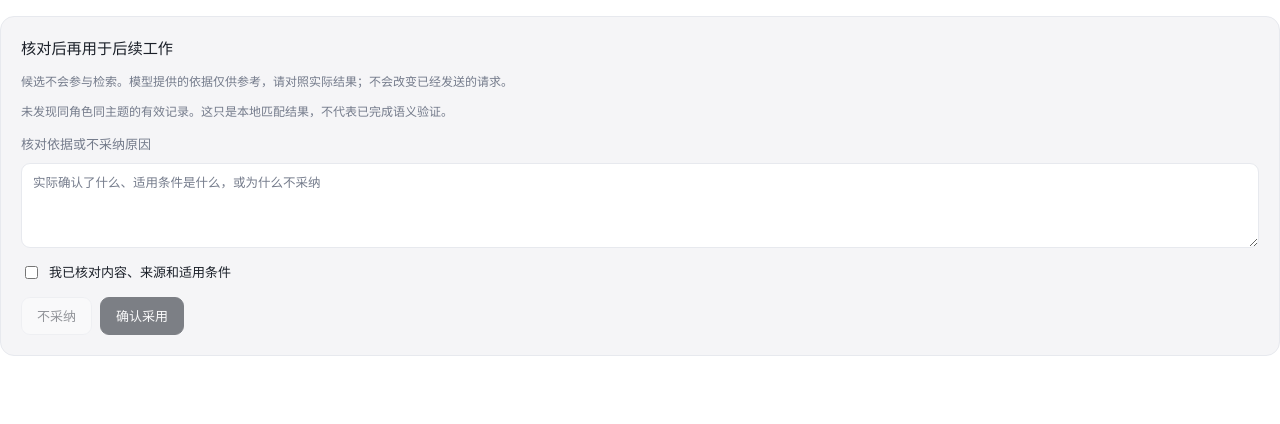
过期确认报错后不会关闭或自动重试，必须重新核对
The image size is (1280, 424).
In the text box labelled "核对依据或不采纳原因": (640, 206) top-left (21, 163), bottom-right (1259, 248), type "已对照浏览器预览核对"
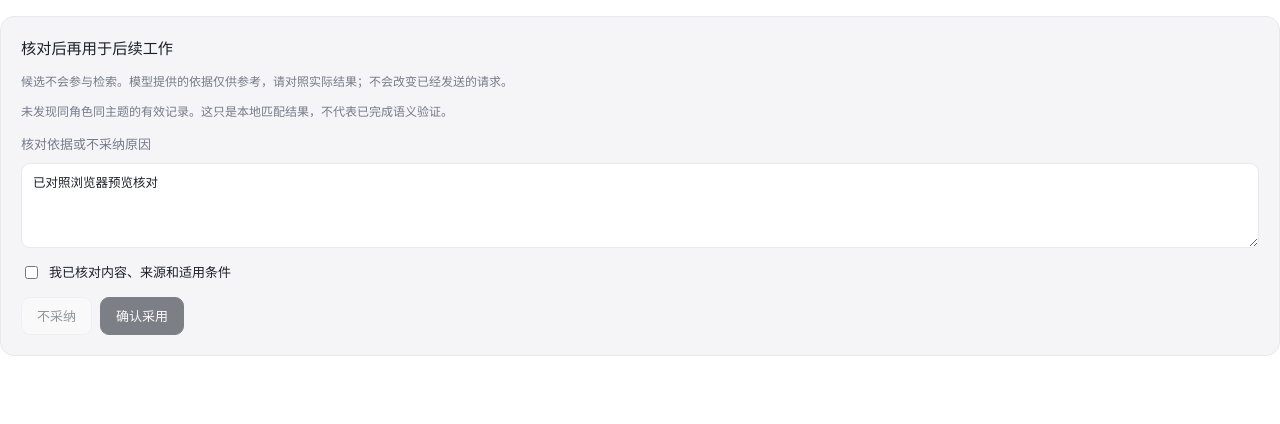
Click the checkbox labelled "我已核对内容、来源和适用条件": click(32, 272) top-left (25, 266), bottom-right (38, 279)
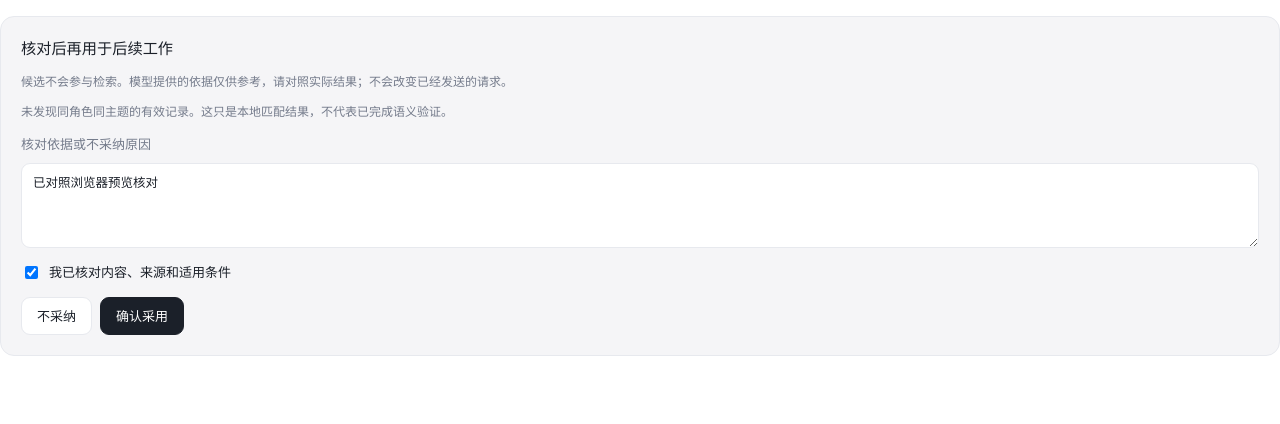
Click the button "确认采用": click(142, 316) top-left (100, 296), bottom-right (184, 335)
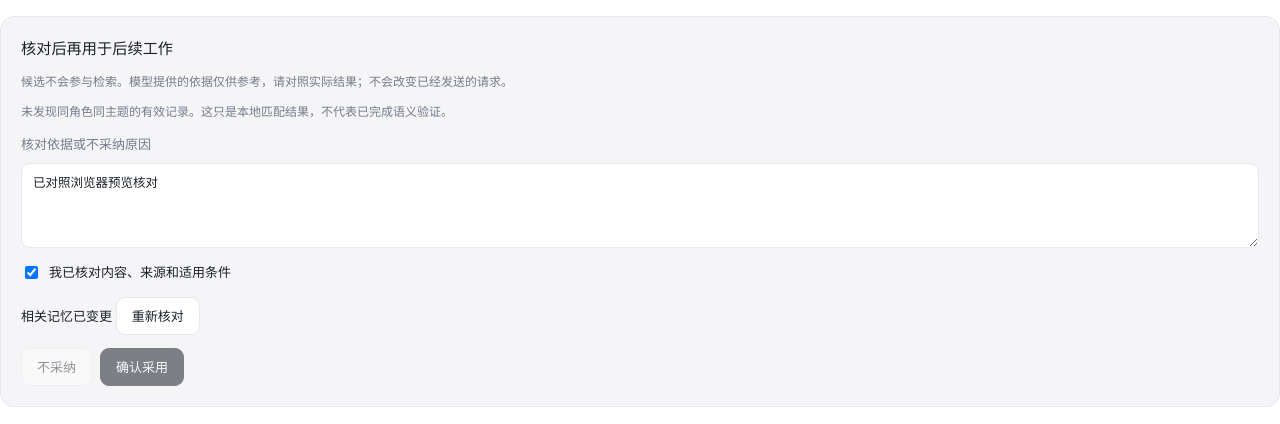
Result: the message "相关记忆已变更 重新核对" is shown at top-left (21, 296), bottom-right (200, 335)
Result: the button "确认采用" is disabled at top-left (100, 348), bottom-right (184, 386)
Click the button "重新核对": click(158, 316) top-left (116, 296), bottom-right (200, 335)
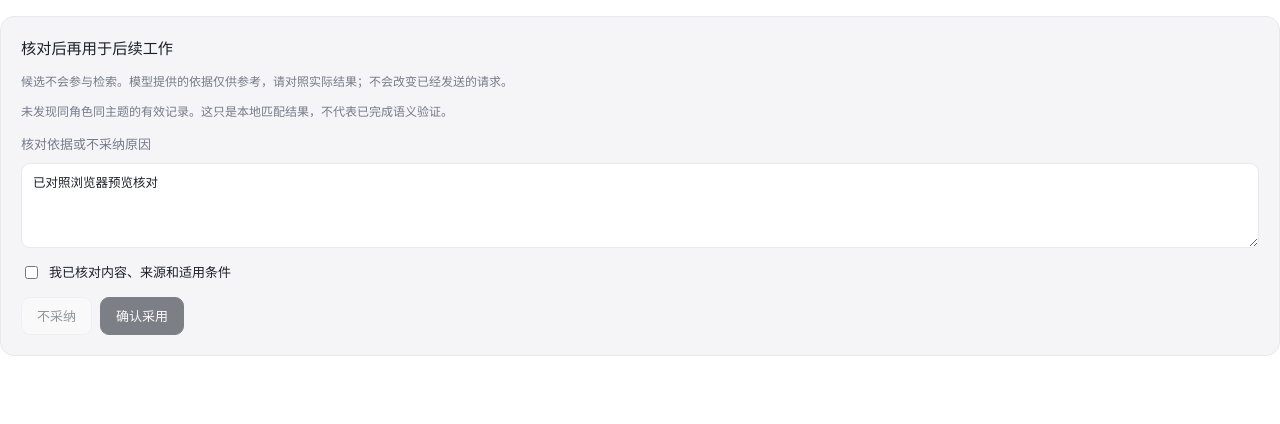
Result: the checkbox labelled "我已核对内容、来源和适用条件" is not checked at top-left (25, 266), bottom-right (38, 279)
Result: the message "相关记忆已变更 重新核对" is gone
